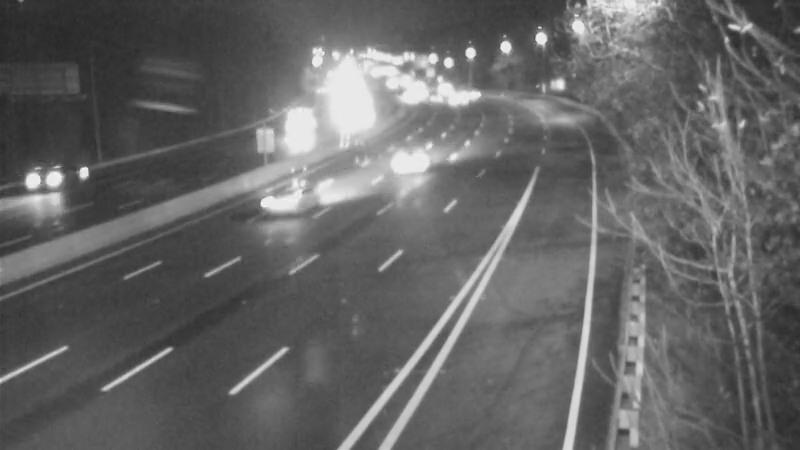vehicle: (375, 117, 455, 197), (247, 162, 327, 242), (1, 138, 78, 218), (414, 59, 464, 109), (450, 74, 500, 124), (433, 74, 483, 124), (272, 105, 322, 155)
